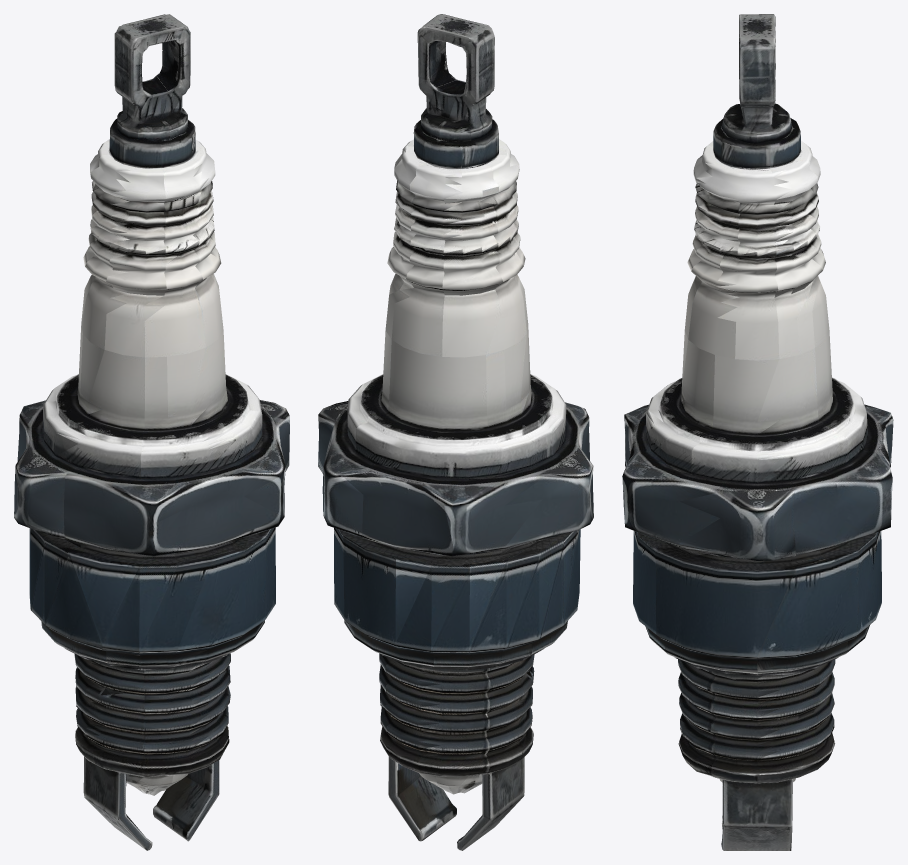
Rendered from spark_plug.glb.
The picture shows the model from 3 angles, left to right: view 1: azimuth 30°, elevation 25°; view 2: azimuth 150°, elevation 25°; view 3: azimuth 270°, elevation 25°; orthographic projection.
Size of the model in its own units: 0.3467 by 1 by 0.3018.
Materials: 1 (1 with a texture image).
